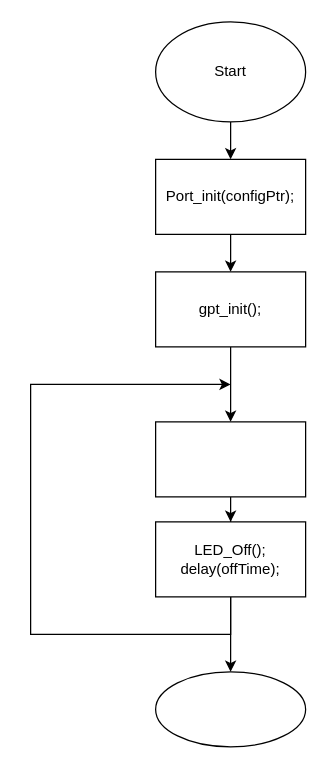
The diagram is 328 pixels wide and 769 high, and some of its shapes have lost their labels. Here are the shapes that lost their labels. From the top down, the box of each, then its label:
(154, 421, 306, 497): LED_On(); delay(onTime);
(154, 671, 306, 747): end
